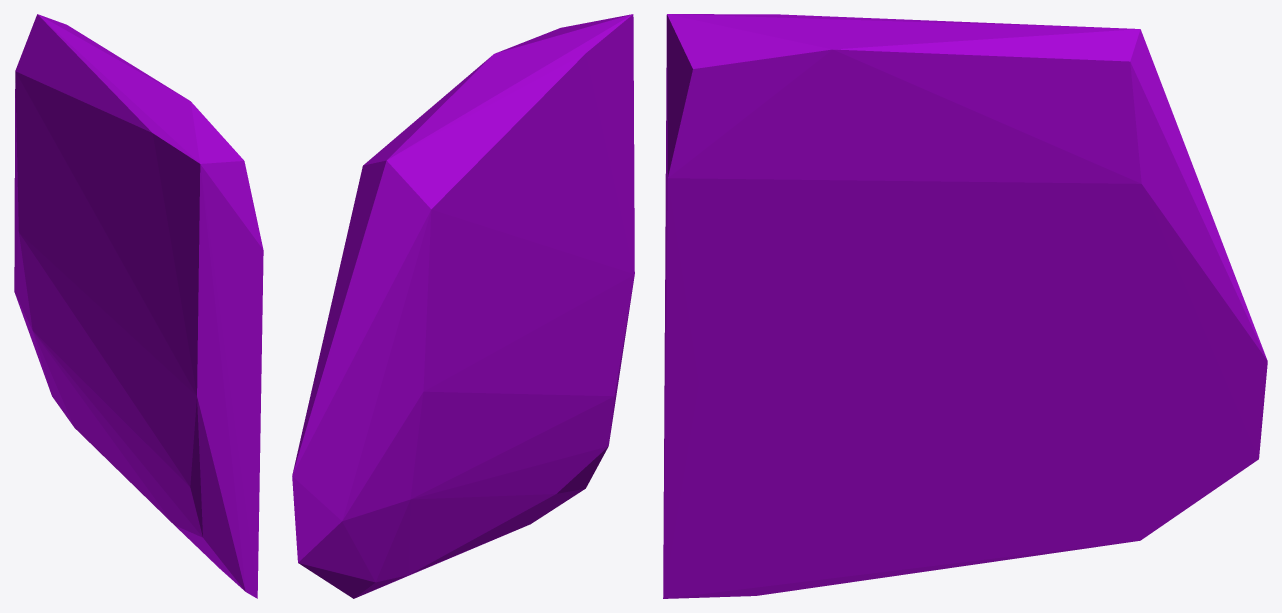
The model's file is hip-roll-housing-mirror_convex_piece_003.obj.
3 renders of one model, left to right at view 1: azimuth 30°, elevation 25°; view 2: azimuth 150°, elevation 25°; view 3: azimuth 270°, elevation 25°, orthographic. The views are drawn at different scales.
Size of the model in its own units: 0.0126 by 0.0791 by 0.0782.
